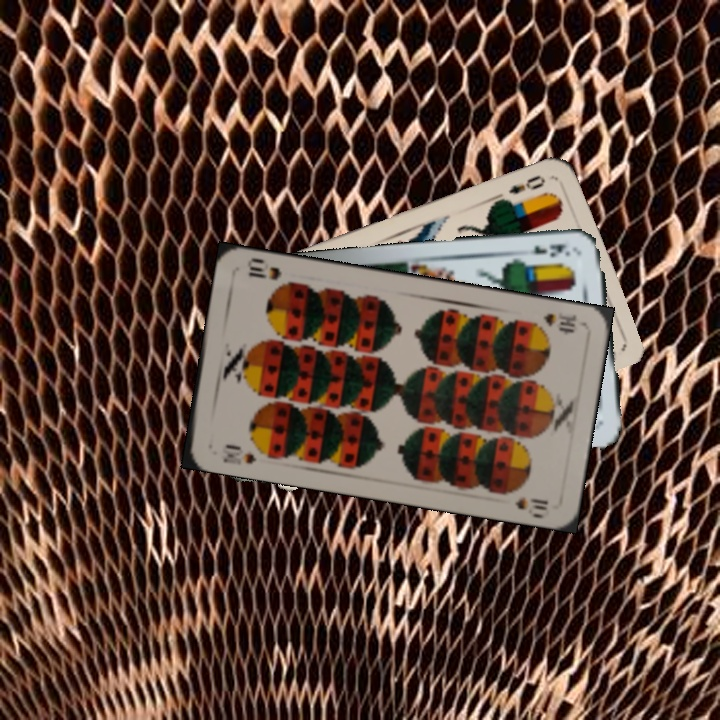EK: (529, 239, 573, 260)
EO: (505, 171, 548, 197)
S10: (219, 440, 260, 468), (539, 308, 579, 336)
